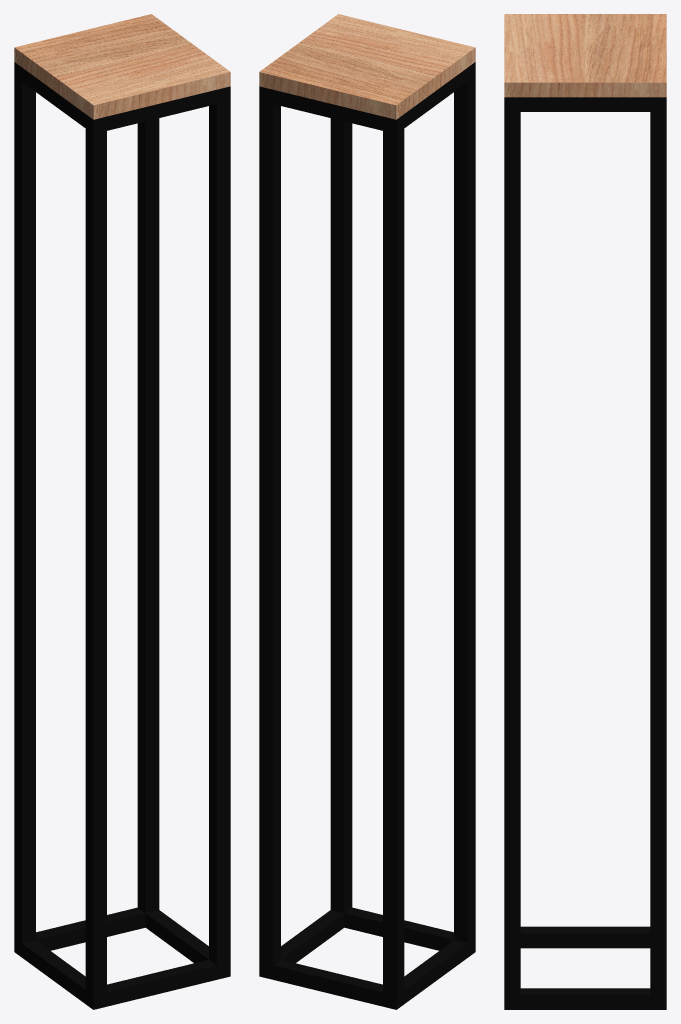
Rendered from kwietnik.glb.
3 renders of one model, left to right at view 1: azimuth 30°, elevation 25°; view 2: azimuth 150°, elevation 25°; view 3: azimuth 270°, elevation 25°, orthographic. The views are drawn at different scales.
Visible parts, largest first — view 1: Solid1 (×2); view 2: Solid1 (×2); view 3: Solid1 (×2).
Part boxes in pixels (left/top/right/bottom): Solid1 (×2): left=14, top=14, right=230, bottom=1009; Solid1 (×2): left=259, top=14, right=475, bottom=1009; Solid1 (×2): left=504, top=14, right=666, bottom=1009.
Size of the model in its own units: 0.2002 by 1.26 by 0.2.
Materials: 2 (1 with a texture image).
